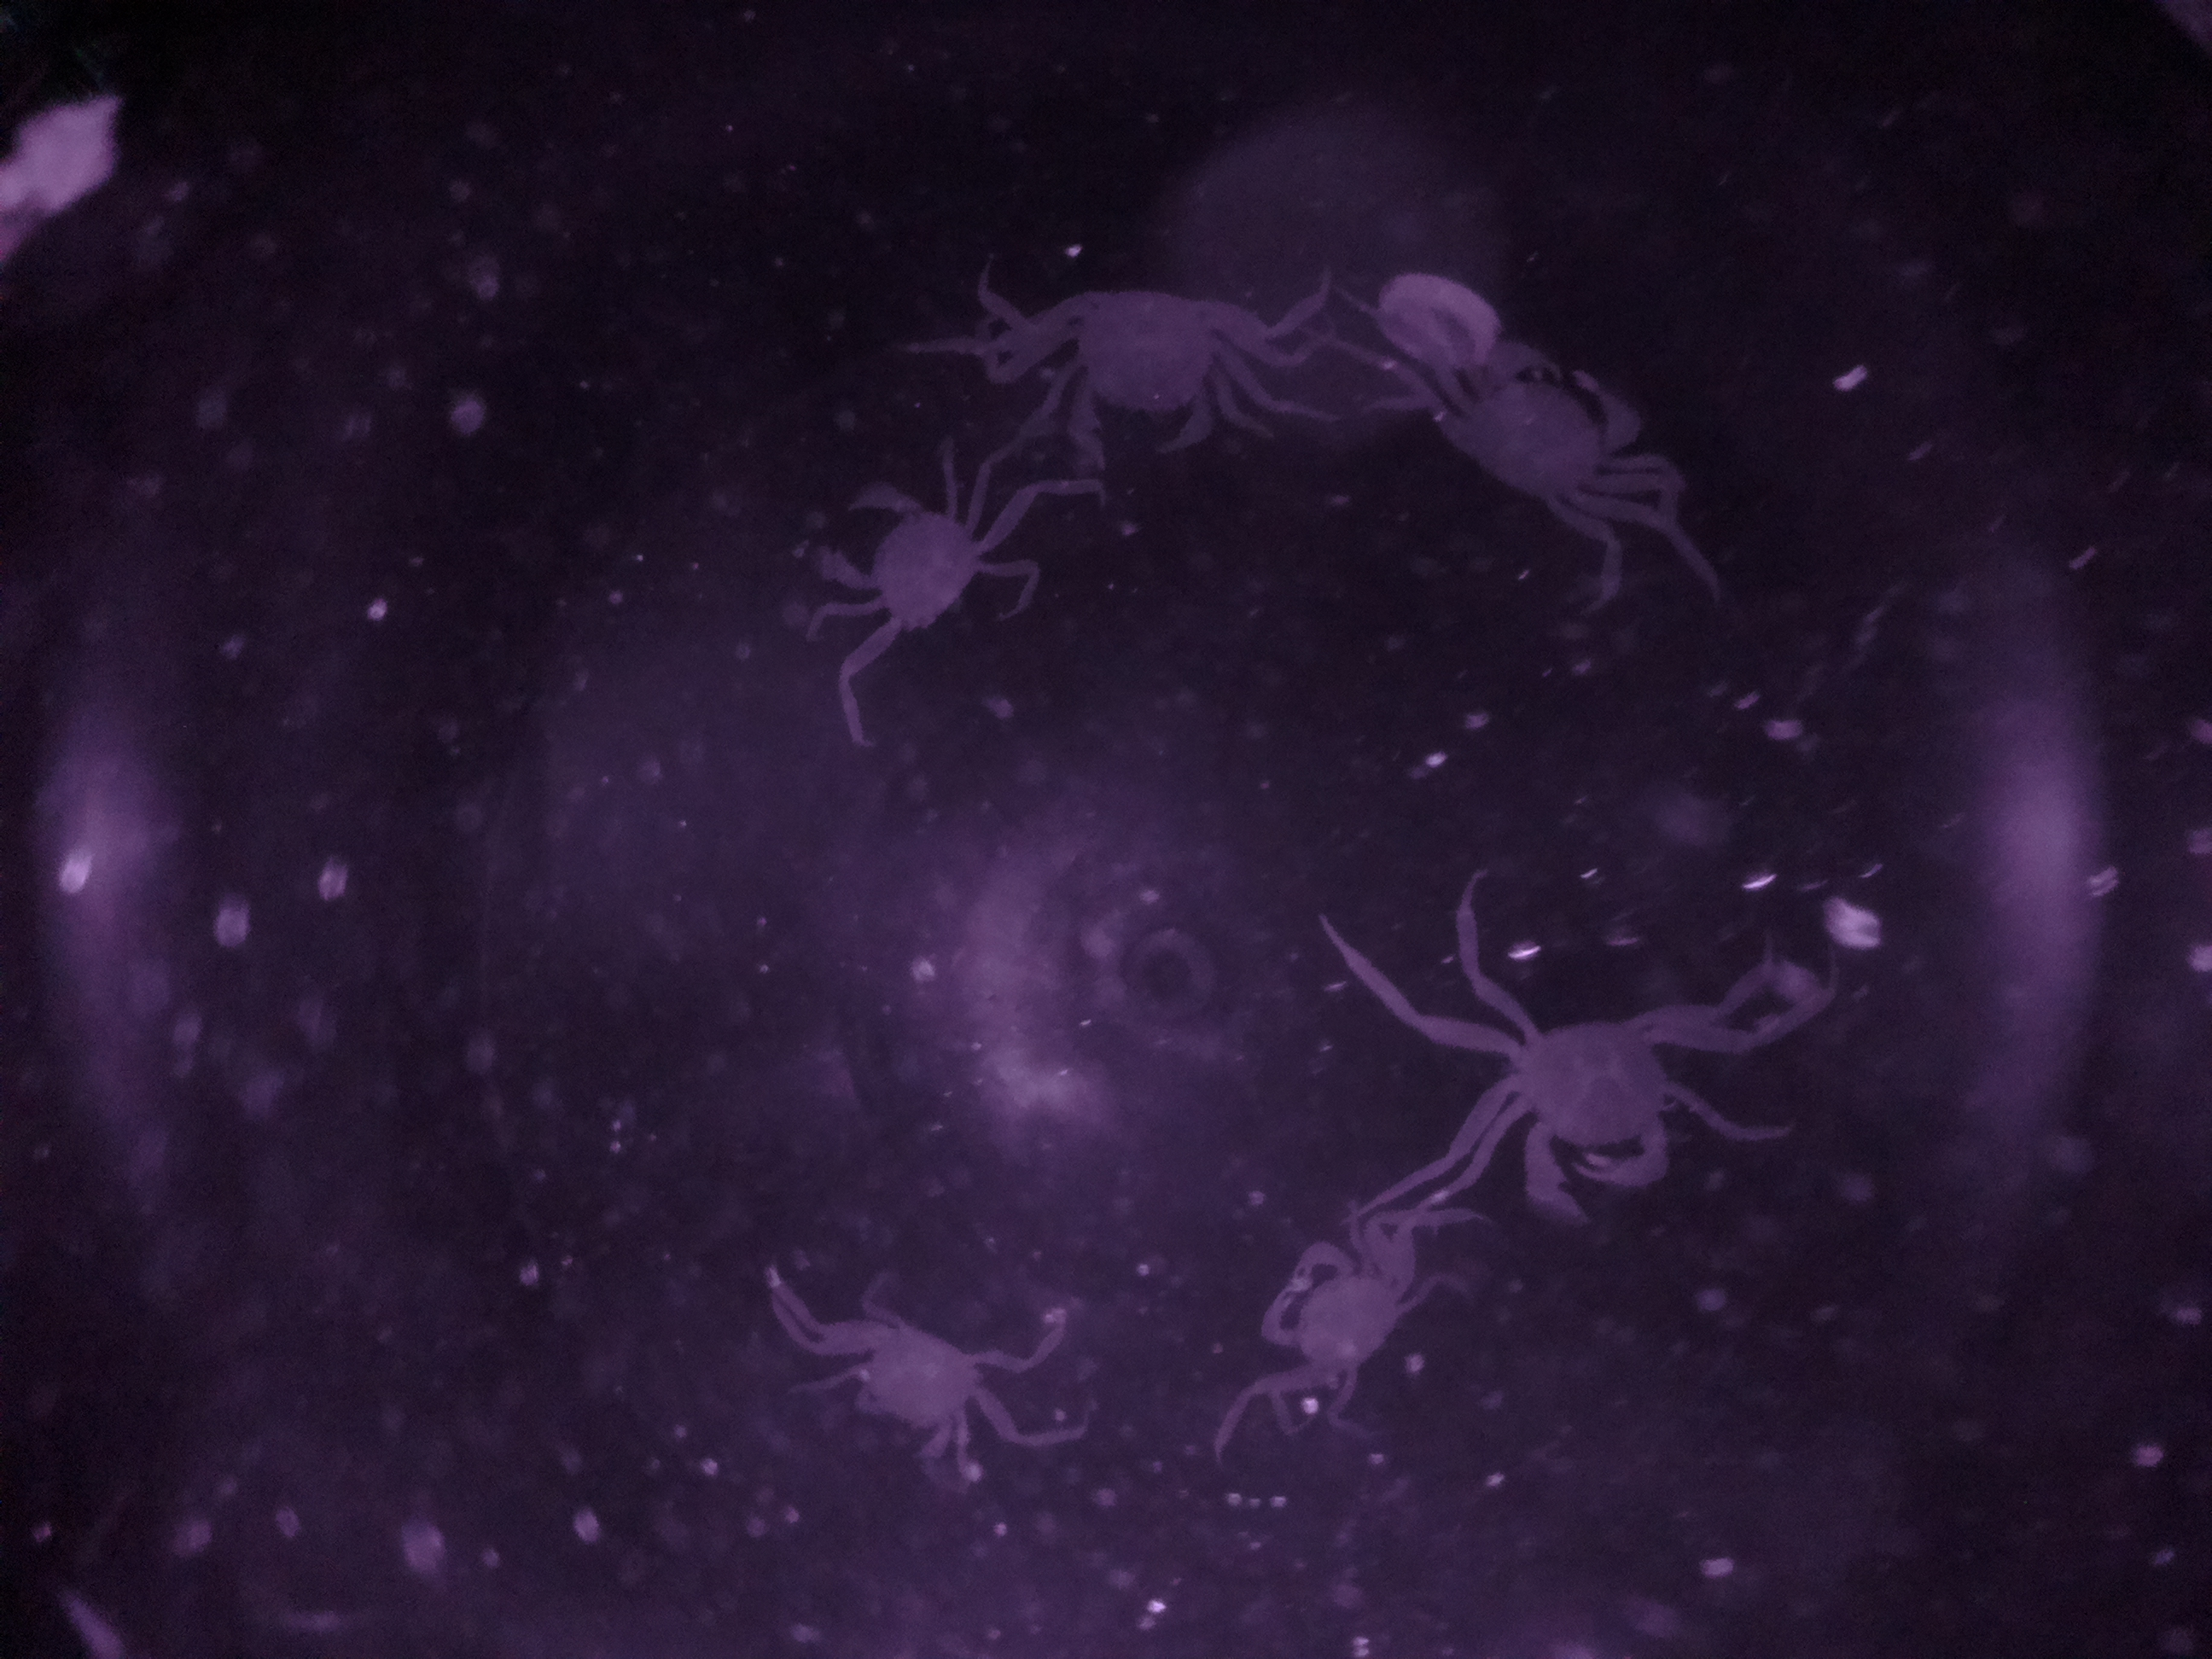Crab: (1007, 268, 1336, 490), (1390, 319, 1702, 549), (1430, 981, 1721, 1218), (794, 1277, 1043, 1488), (806, 483, 1026, 671), (1245, 1225, 1440, 1427)
